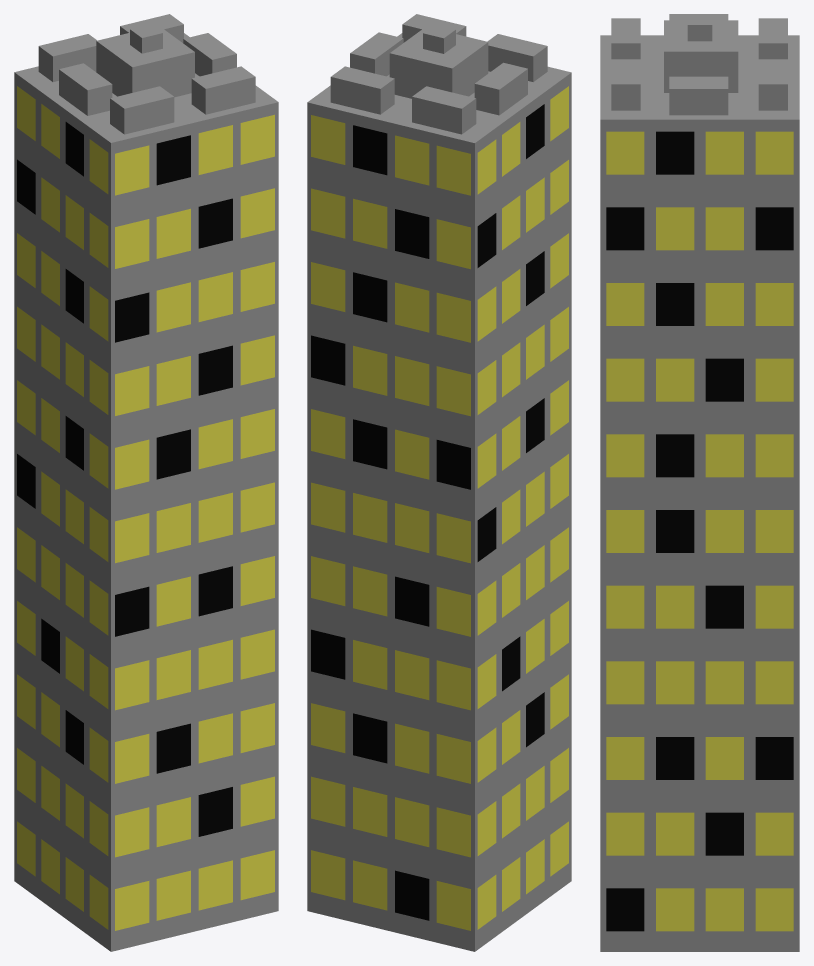
Rendered from Building.fbx.
The picture shows the model from 3 angles, left to right: view 1: azimuth 30°, elevation 25°; view 2: azimuth 150°, elevation 25°; view 3: azimuth 270°, elevation 25°; orthographic projection. The views are drawn at different scales.
Parts seen in each view (by area): view 1: Building, Building_topPart; view 2: Building, Building_topPart; view 3: Building, Building_topPart.
Boxes of the visible parts, x1,y1,x2,y2 form: Building: [14, 33, 278, 951]; Building_topPart: [38, 14, 255, 134]; Building: [307, 33, 571, 951]; Building_topPart: [330, 14, 547, 134]; Building: [600, 35, 799, 951]; Building_topPart: [611, 14, 787, 115].
Size of the model in its own units: 4499 by 22183 by 4499.
